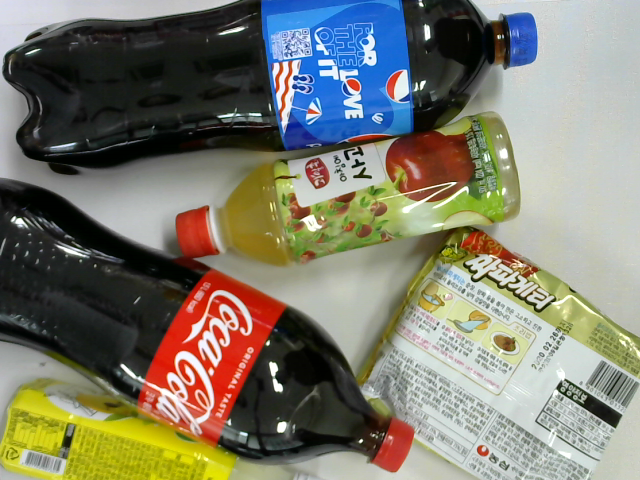Coca_Cola_1.5L: (1, 177, 418, 473)
Morning_Apple_500ml: (174, 108, 521, 267)
Olive_Chapaghetti: (354, 225, 640, 480)
Pepsi_Cola_1.5L: (2, 2, 538, 175)
Sunkist_Lemonaid_Pet: (1, 378, 322, 480)
